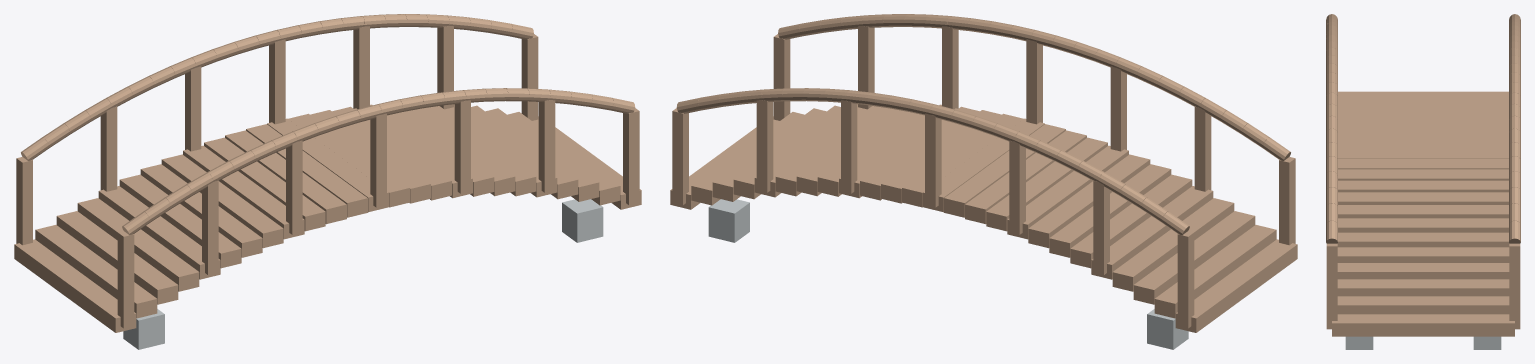
The model's file is arched_bridge.glb.
The picture shows the model from 3 angles, left to right: view 1: azimuth 30°, elevation 25°; view 2: azimuth 150°, elevation 25°; view 3: azimuth 270°, elevation 25°; orthographic projection. The views are drawn at different scales.
Parts seen in each view (by area): view 1: arched_bridge_000, arched_bridge_003, arched_bridge_009, arched_bridge_006, arched_bridge_012, arched_bridge_023, arched_bridge_017, arched_bridge_020, arched_bridge_026, arched_bridge_031, arched_bridge_034, arched_bridge_037 (+29 smaller); view 2: arched_bridge_000, arched_bridge_003, arched_bridge_009, arched_bridge_006, arched_bridge_012, arched_bridge_023, arched_bridge_017, arched_bridge_020, arched_bridge_026, arched_bridge_031, arched_bridge_034, arched_bridge_037 (+29 smaller); view 3: arched_bridge_082, arched_bridge_079, arched_bridge_076, arched_bridge_073, arched_bridge_068, arched_bridge_065, arched_bridge_062, arched_bridge_059, arched_bridge_051, arched_bridge_054, arched_bridge_048, arched_bridge_045 (+31 smaller).
Boxes of the visible parts, x1,y1,x2,y2 form: arched_bridge_000: (14,239,136,332); arched_bridge_003: (35,225,157,318); arched_bridge_009: (77,198,199,291); arched_bridge_006: (56,211,178,304); arched_bridge_012: (98,186,220,279); arched_bridge_023: (161,154,283,248); arched_bridge_017: (119,174,241,268); arched_bridge_020: (140,164,262,257); arched_bridge_026: (183,145,304,239); arched_bridge_031: (204,137,325,231); arched_bridge_034: (225,130,346,224); arched_bridge_037: (246,124,367,217); arched_bridge_000: (1175,239,1297,332); arched_bridge_003: (1154,225,1276,318); arched_bridge_009: (1112,198,1234,291); arched_bridge_006: (1133,211,1255,304); arched_bridge_012: (1091,186,1213,279); arched_bridge_023: (1028,154,1150,248); arched_bridge_017: (1070,174,1192,268); arched_bridge_020: (1049,164,1171,257); arched_bridge_026: (1007,145,1128,239); arched_bridge_031: (986,137,1107,231); arched_bridge_034: (965,130,1086,224); arched_bridge_037: (944,124,1065,217); arched_bridge_082: (1332,314,1514,336); arched_bridge_079: (1337,296,1509,314); arched_bridge_076: (1337,279,1509,296); arched_bridge_073: (1337,263,1509,279); arched_bridge_068: (1337,247,1509,262); arched_bridge_065: (1337,232,1509,247); arched_bridge_062: (1338,218,1508,232); arched_bridge_059: (1338,205,1508,218); arched_bridge_051: (1338,180,1508,192); arched_bridge_054: (1338,192,1508,204); arched_bridge_048: (1338,169,1508,180); arched_bridge_045: (1338,159,1508,169).
Size of the model in its own units: 6 by 2.11 by 2.13.
